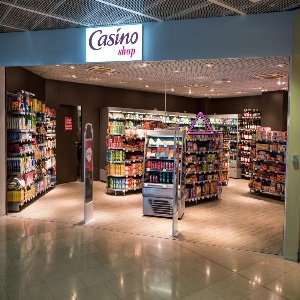triangle: (185, 111, 217, 138)
